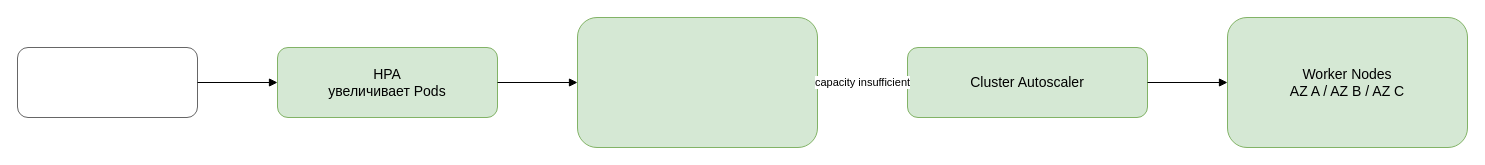
Image size: 1485x165. Some labels were removed from this diagram. The shapes that lost their labels are listed below. From the top down, each one's box as (x1, y1, x2, y2) in pixels, then its label:
(16, 46, 198, 118): Рост нагрузки
(576, 16, 818, 148): Pods AZ A / AZ B / AZ C
